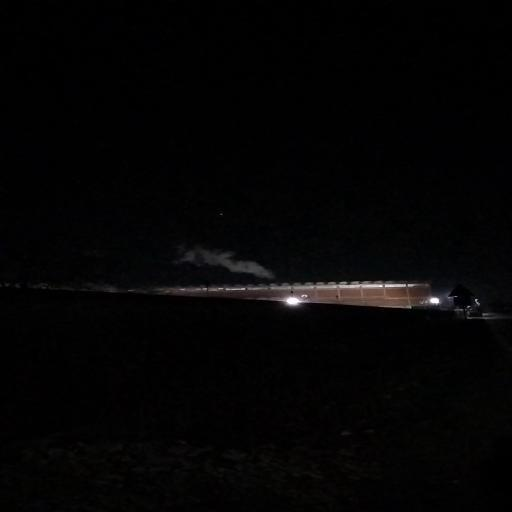leakage: (164, 230, 286, 284)
